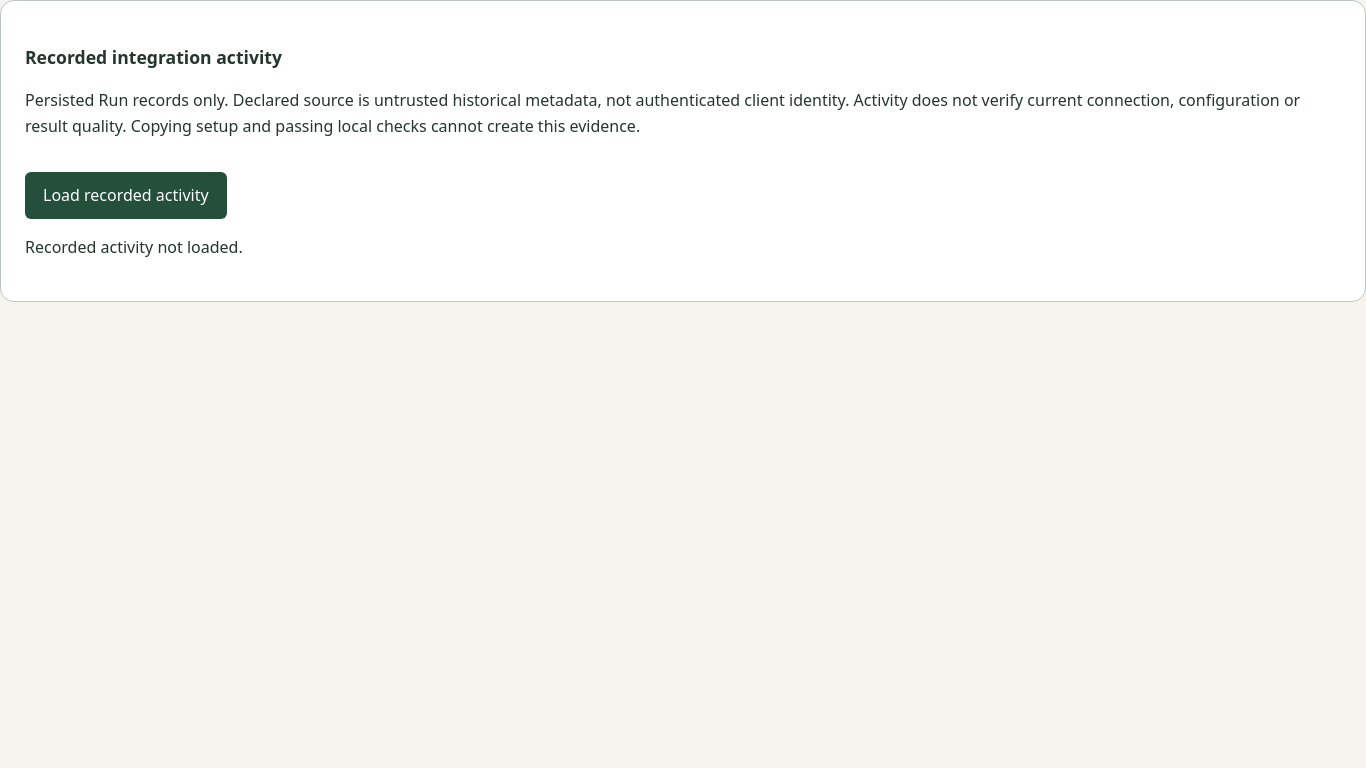
Test: empty and unavailable are distinct and failed refresh retains stale records
Click the button "Load recorded activity". click: x=126, y=195
box: [25,172,227,219]
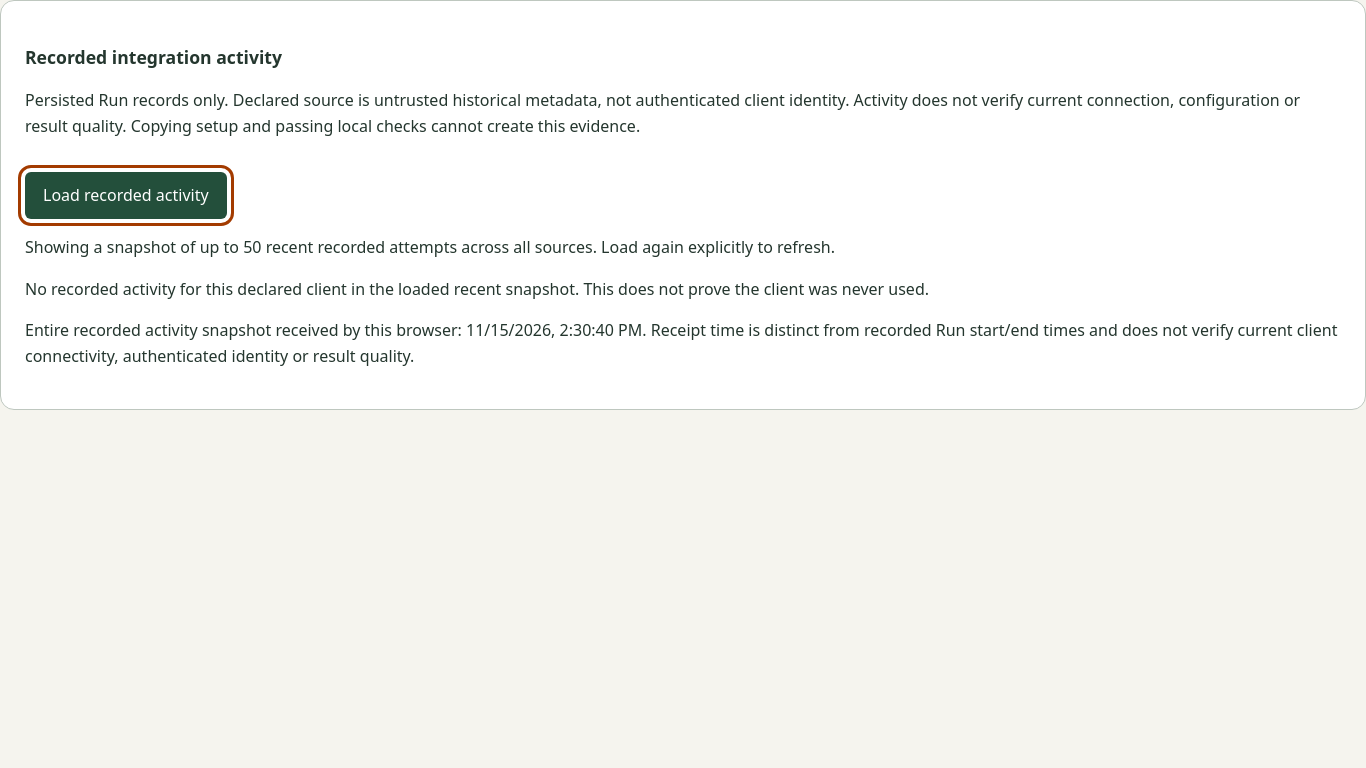
Result: the text "No recorded activity for this declared client" is shown at [25,278,929,300]
Click the button "Load recorded activity". click: x=126, y=195
box: [25,172,227,219]
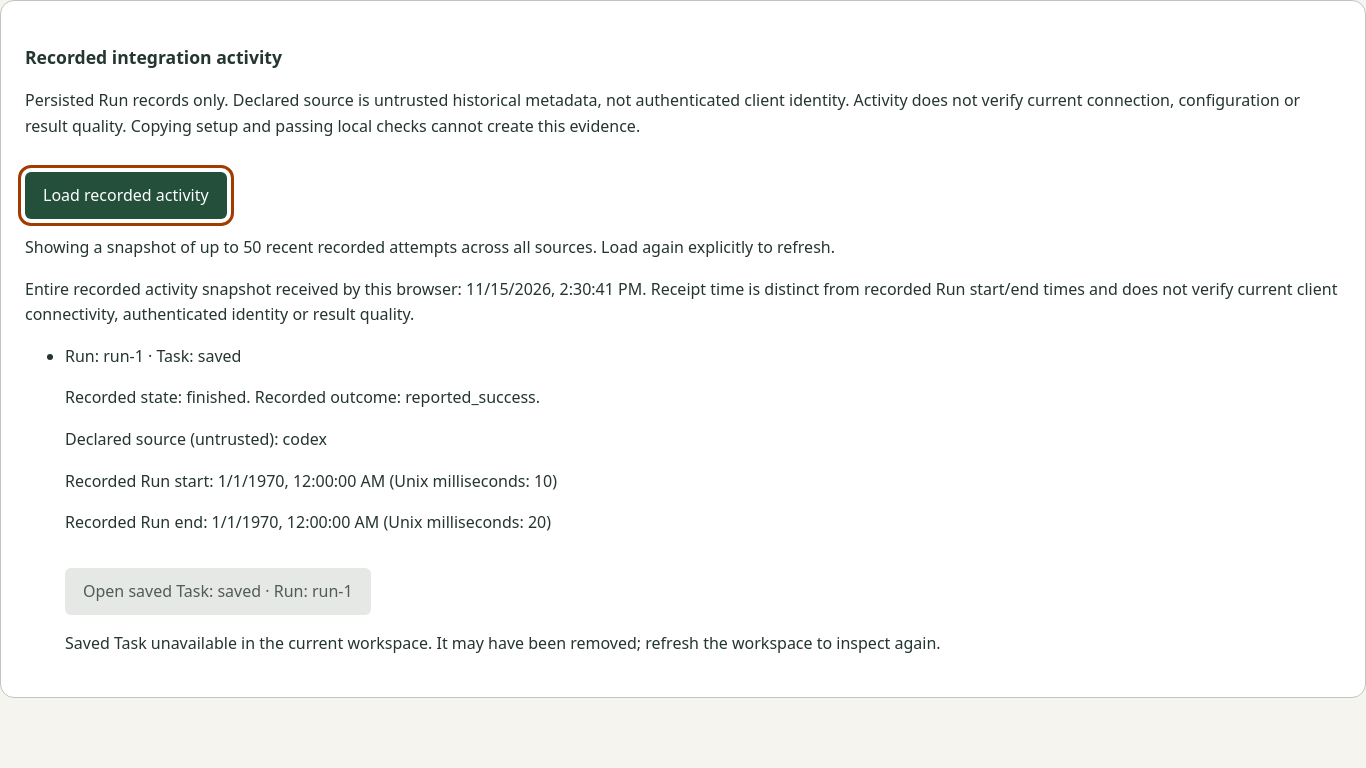
Result: the text "Run: run-1 · Task: saved" is shown at [65,345,241,367]
Click the button "Load recorded activity". click: x=126, y=195
box: [25,172,227,219]
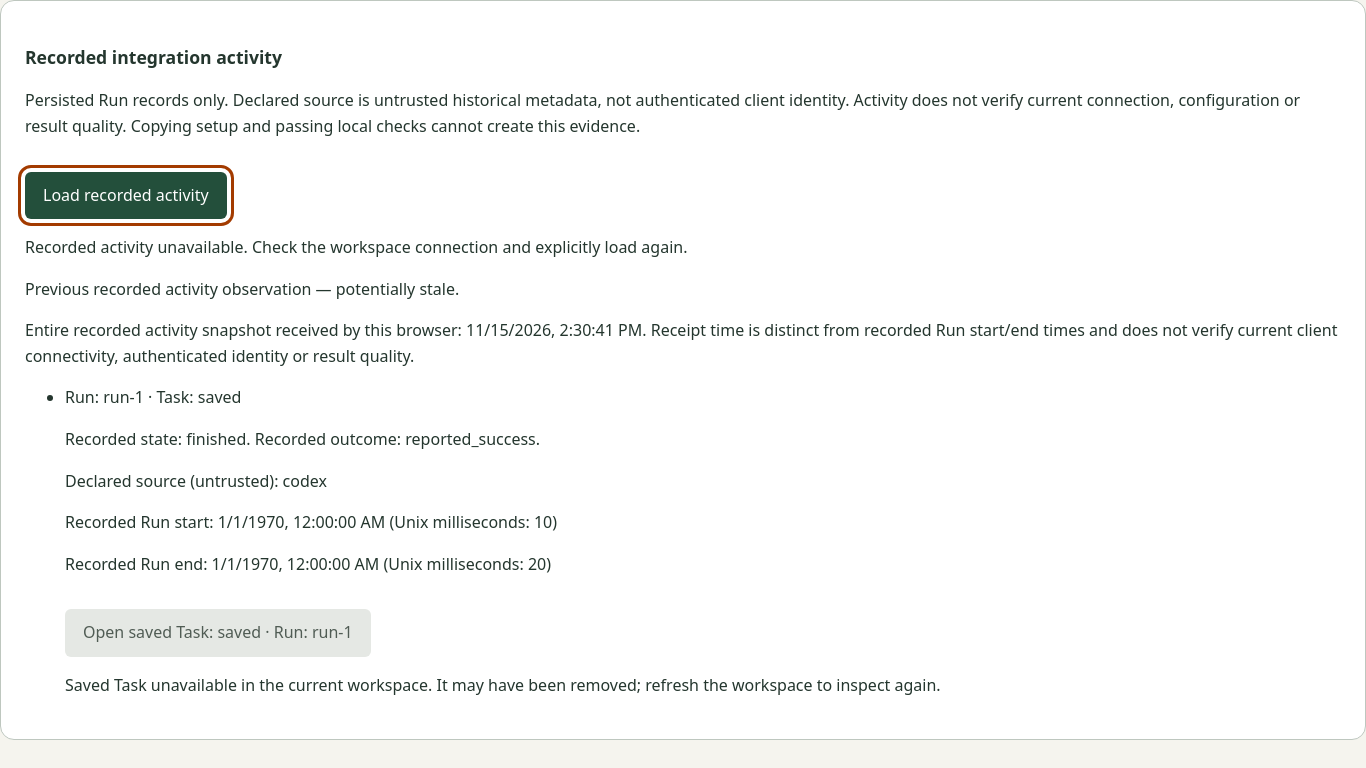
Result: the text "Run: run-1 · Task: saved" is shown at [65,386,241,408]
Result: the text "Recorded activity unavailable" is shown at [25,236,688,258]
Result: the text "Previous recorded activity observation — potentially stale." is shown at [25,278,459,300]
